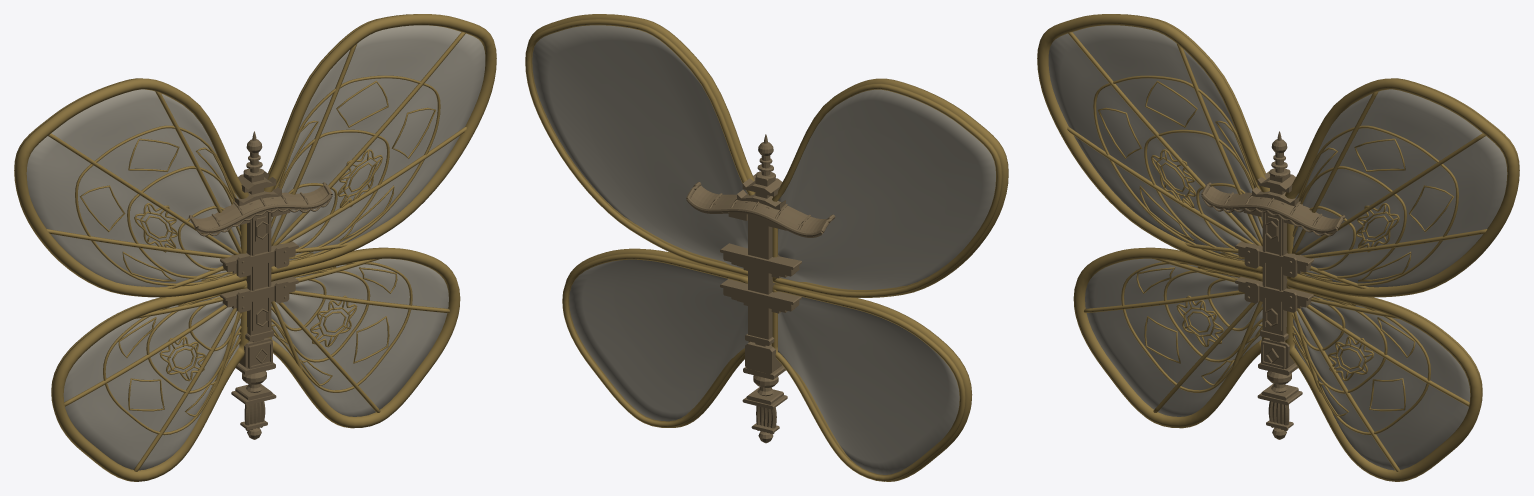
The model's file is MyriadButterfly.glb.
3 renders of one model, left to right at view 1: azimuth 30°, elevation 25°; view 2: azimuth 150°, elevation 25°; view 3: azimuth 330°, elevation 25°, orthographic.
Visible parts, largest first — view 1: Wing_LU, Wing_RU, Wing_RL, Wing_LL, Vein_RU, Vein_LU, Body, Vein_LL, Vein_RL; view 2: Wing_LU, Wing_RU, Wing_LL, Wing_RL, Body, Vein_RU, Vein_LU, Vein_LL, Vein_RL; view 3: Wing_RU, Wing_LU, Wing_LL, Wing_RL, Vein_LU, Vein_RU, Body, Vein_RL, Vein_LL.
Part boxes in pixels (x1,y1,x2,y2): Wing_LU: (26, 89, 240, 287); Wing_RU: (271, 25, 485, 260); Wing_RL: (271, 258, 448, 416); Wing_LL: (63, 296, 240, 470); Vein_RU: (264, 14, 496, 274); Vein_LU: (14, 78, 248, 297); Body: (188, 131, 332, 439); Vein_LL: (51, 280, 248, 481); Vein_RL: (268, 247, 460, 428); Wing_LU: (778, 89, 995, 289); Wing_RU: (532, 25, 747, 268); Wing_LL: (778, 297, 959, 474); Wing_RL: (569, 259, 748, 421); Body: (686, 134, 835, 443); Vein_RU: (525, 14, 755, 276); Vein_LU: (772, 78, 1008, 297); Vein_LL: (771, 283, 972, 481); Vein_RL: (562, 248, 749, 427); Wing_RU: (1293, 89, 1507, 287); Wing_LU: (1048, 25, 1262, 260); Wing_LL: (1085, 258, 1262, 416); Wing_RL: (1293, 296, 1470, 470); Vein_LU: (1037, 14, 1269, 274); Vein_RU: (1285, 78, 1519, 297); Body: (1201, 131, 1345, 439); Vein_RL: (1285, 280, 1482, 481); Vein_LL: (1073, 247, 1265, 428).
Bounding box in the file's own units: 43.89 × 35.2 × 4.36.
